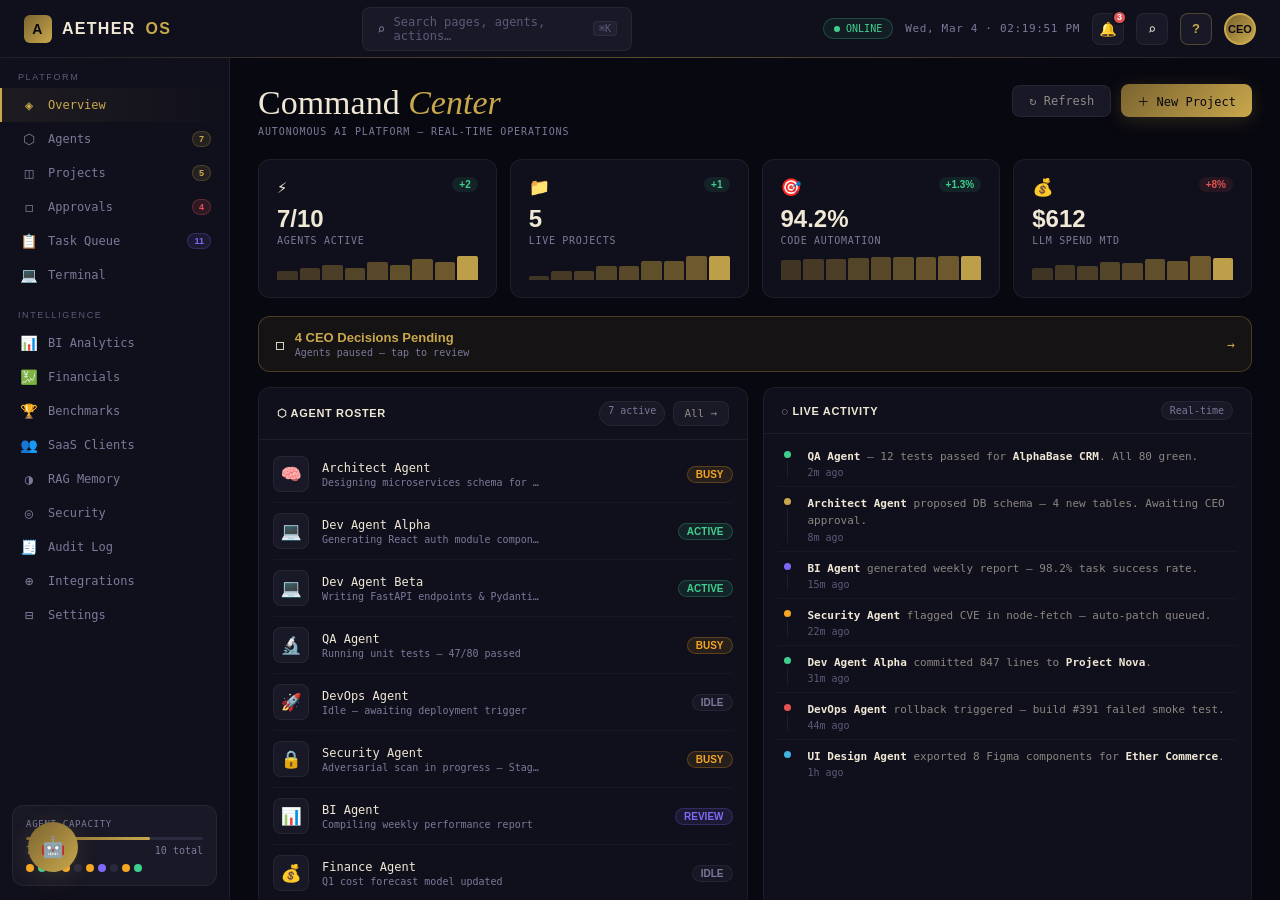
Test: Settings Flow › Save Changes button is disabled when no changes made
Click the text "Settings". click: (77, 615)
box: [48, 608, 106, 622]
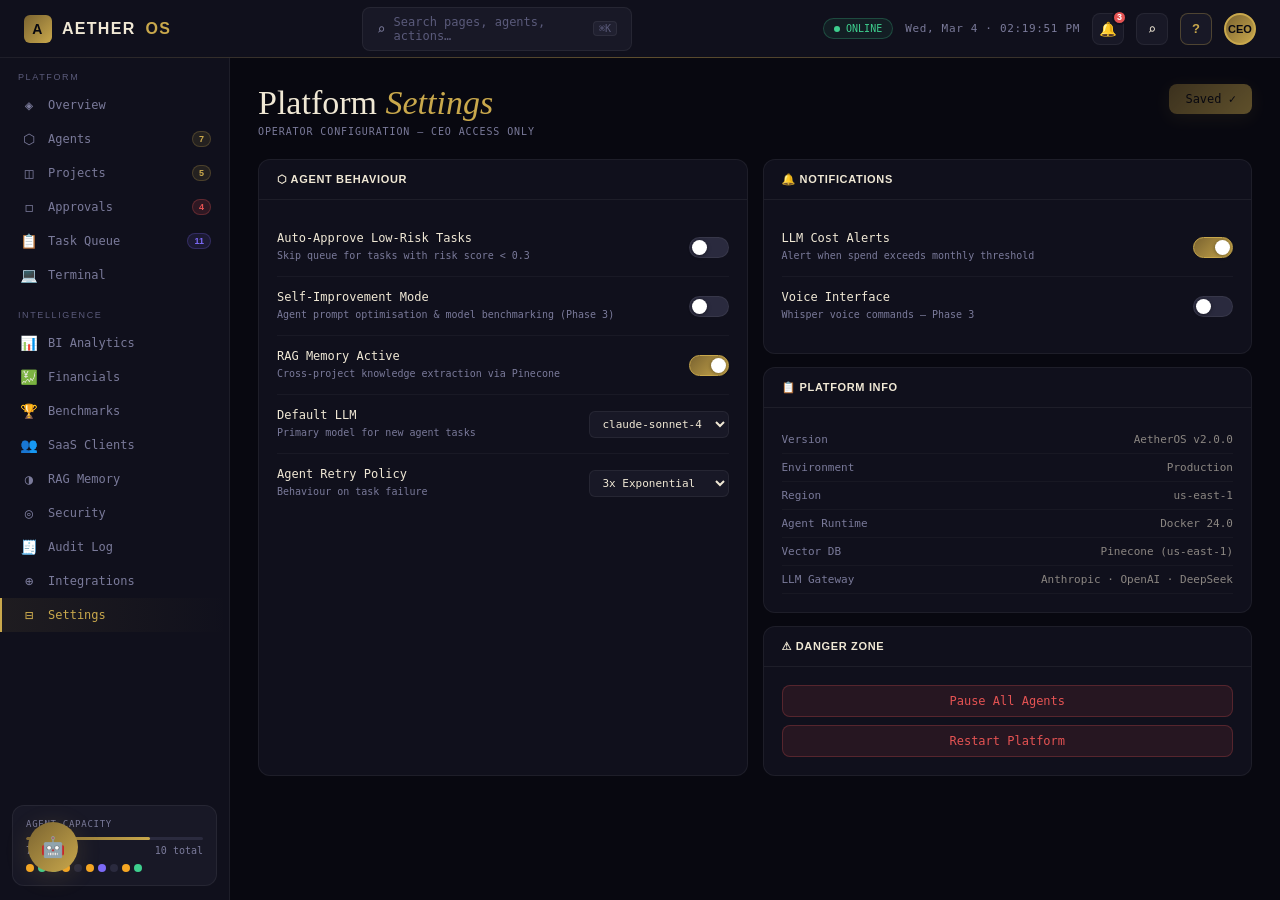
Result: the button "Saved ✓" is disabled at [1169, 84, 1252, 114]
